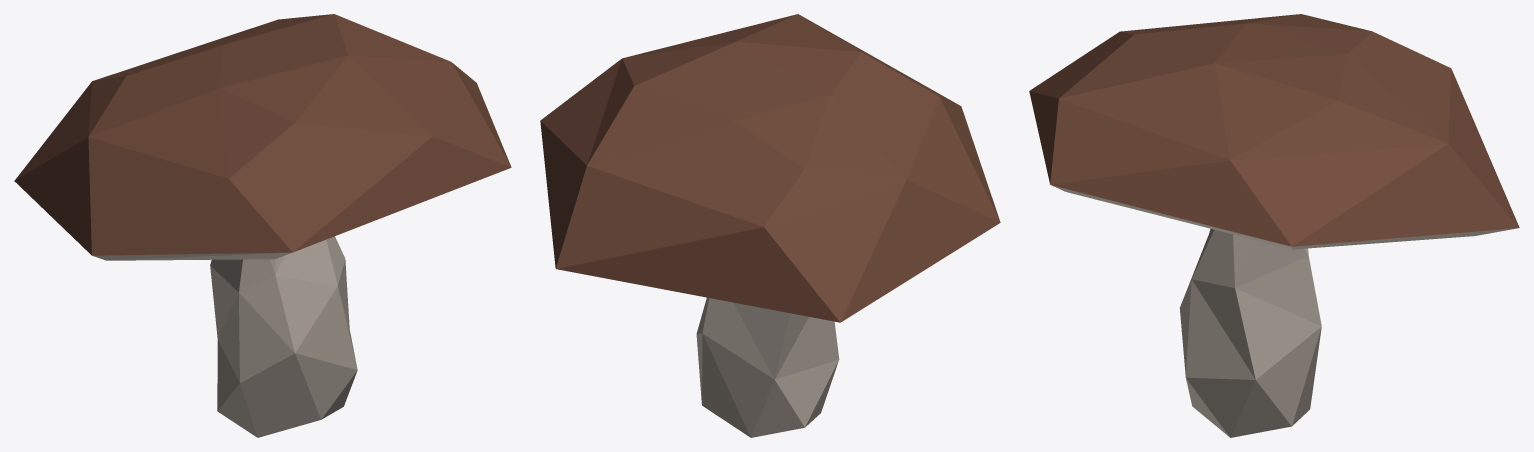
Rendered from SENE_EDAMA-001.FBX.
The picture shows the model from 3 angles, left to right: view 1: azimuth 30°, elevation 25°; view 2: azimuth 150°, elevation 25°; view 3: azimuth 270°, elevation 25°; orthographic projection. The views are drawn at different scales.
Visible parts, largest first — view 1: SENE_EDAMA-001; view 2: SENE_EDAMA-001; view 3: SENE_EDAMA-001.
Part boxes in pixels (x1=…): SENE_EDAMA-001: x1=14, y1=14, x2=511, y2=437; SENE_EDAMA-001: x1=540, y1=14, x2=1000, y2=437; SENE_EDAMA-001: x1=1029, y1=14, x2=1519, y2=437.
Size of the model in its own units: 1084 by 870 by 1026.
Materials: 1 (1 with a texture image).
